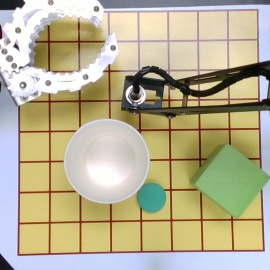cup: (64, 119, 149, 206)
green: (137, 183, 166, 211)
